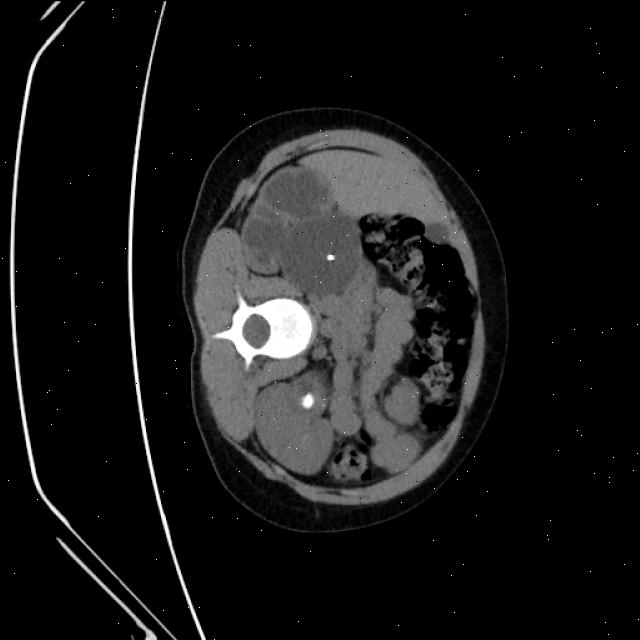kidneystone: (299, 392, 314, 410)
